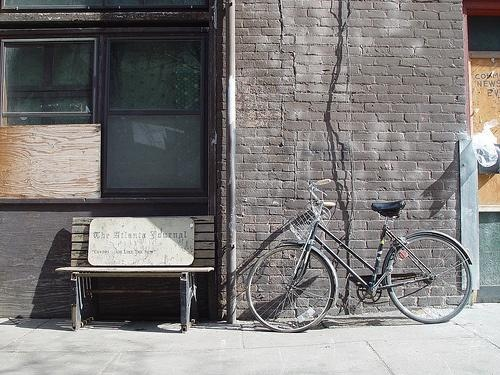bicycle: (245, 178, 472, 334)
